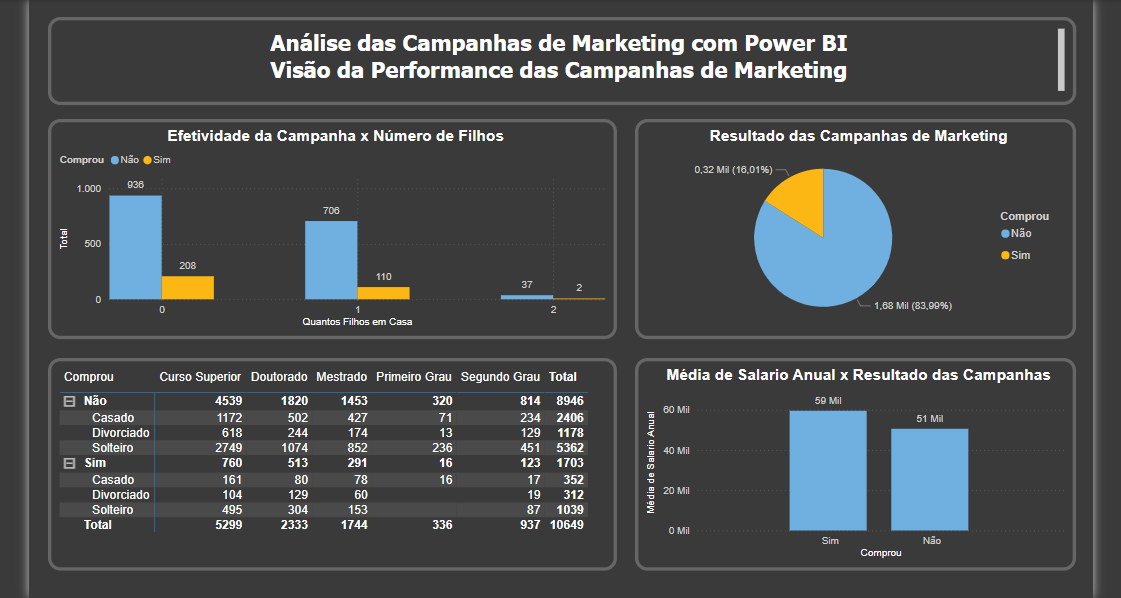

The dashboard page shown, as its layout file describes it:
{"tool":"powerbi","page":{"name":"Visão Campanhas","canvas":[1280,720],"ordinal":2},"visuals":[{"type":"pieChart","title":"Resultado das Campanhas de Marketing","fields":{"Category":["DadosMarketing.Comprou"],"Y":["CountNonNull(DadosMarketing.ID)"]},"box":[730.1,143.1,530.7,265.3],"z":0},{"type":"clusteredColumnChart","title":"Média de Salario Anual x Resultado das Campanhas","fields":{"Category":["DadosMarketing.Comprou"],"Y":["Avg(DadosMarketing.Salario Anual)"]},"box":[730.1,431,530.7,255.7],"z":1000},{"type":"pivotTable","fields":{"Rows":["DadosMarketing.Comprou","DadosMarketing.Estado Civil"],"Values":["Sum(DadosMarketing.Numero Visitas WebSite Mes)"],"Columns":["DadosMarketing.Escolaridade"]},"box":[22.5,431,685,255.7],"z":2000},{"type":"clusteredColumnChart","title":"Efetividade da Campanha x Número de Filhos","fields":{"Category":["DadosMarketing.Filhos em Casa"],"Series":["DadosMarketing.Comprou"],"Y":["CountNonNull(DadosMarketing.Filhos em Casa)"]},"box":[22.5,143.1,685,265.3],"z":3000},{"type":"textbox","box":[22.5,20.9,1238.2,106.1],"z":4000}]}

Visuals, with their boxes on the page's 1280x720 design canvas (x1, y1, x2, y2). These are canvas units, not pixel positions in the 1121x598 screenshot, which may show the page scaled, cropped or inside an application window:
"Resultado das Campanhas de Marketing" pieChart: 730/143/1261/408
"Média de Salario Anual x Resultado das Campanhas" clusteredColumnChart: 730/431/1261/687
pivotTable - DadosMarketing.Comprou x DadosMarketing.Estado Civil: 22/431/708/687
"Efetividade da Campanha x Número de Filhos" clusteredColumnChart: 22/143/708/408
textbox: 22/21/1261/127
